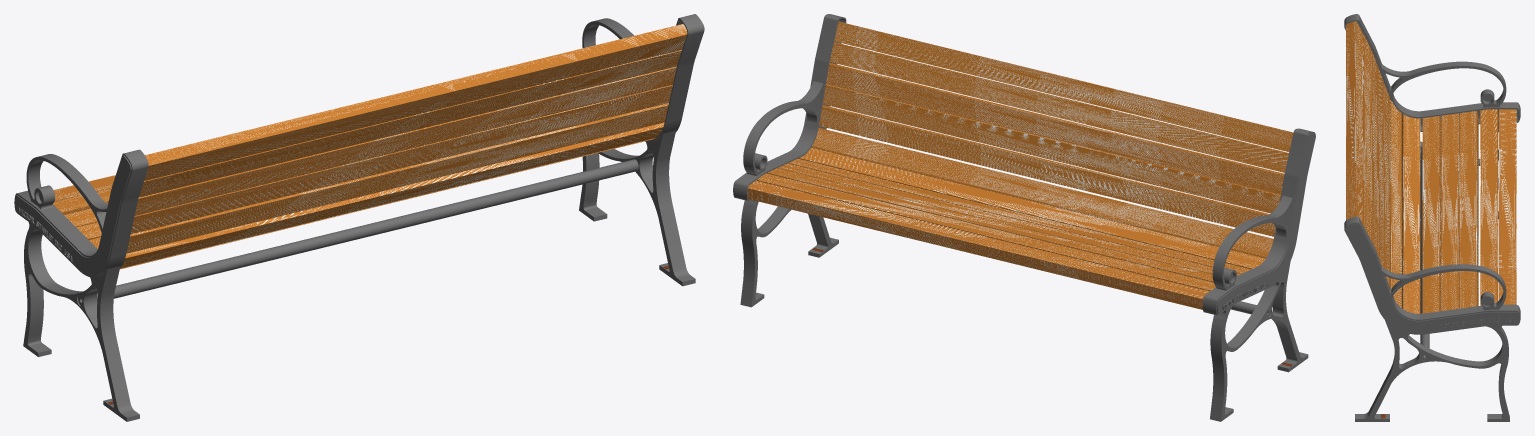
The picture shows the model from 3 angles, left to right: view 1: azimuth 30°, elevation 25°; view 2: azimuth 150°, elevation 25°; view 3: azimuth 270°, elevation 25°; orthographic projection. The views are drawn at different scales.
Parts seen in each view (by area): view 1: mesh9_mesh9-geometry, mesh6_mesh6-geometry, mesh4_mesh4-geometry, mesh5_mesh5-geometry, mesh10_mesh10-geometry, mesh8_mesh8-geometry, mesh63_mesh63-geometry, mesh32_mesh32-geometry, mesh34_mesh34-geometry, mesh13_mesh13-geometry, mesh33_mesh33-geometry, mesh15_mesh15-geometry (+2 smaller); view 2: mesh4_mesh4-geometry, mesh8_mesh8-geometry, mesh6_mesh6-geometry, mesh5_mesh5-geometry, mesh10_mesh10-geometry, mesh9_mesh9-geometry, mesh2_mesh2-geometry, mesh7_mesh7-geometry, mesh34_mesh34-geometry, mesh12_mesh12-geometry, mesh32_mesh32-geometry, mesh1_mesh1-geometry (+6 smaller); view 3: mesh15_mesh15-geometry, mesh1_mesh1-geometry, mesh11_mesh11-geometry, mesh7_mesh7-geometry, mesh3_mesh3-geometry, mesh12_mesh12-geometry, mesh2_mesh2-geometry, mesh9_mesh9-geometry, mesh13_mesh13-geometry, mesh8_mesh8-geometry, mesh34_mesh34-geometry, mesh10_mesh10-geometry (+6 smaller).
Part boxes in pixels (x1=…): mesh9_mesh9-geometry: x1=144, y1=24, x2=687, y2=180; mesh6_mesh6-geometry: x1=126, y1=103, x2=668, y2=253; mesh4_mesh4-geometry: x1=134, y1=66, x2=676, y2=215; mesh5_mesh5-geometry: x1=131, y1=85, x2=672, y2=233; mesh10_mesh10-geometry: x1=138, y1=50, x2=681, y2=197; mesh8_mesh8-geometry: x1=120, y1=122, x2=664, y2=268; mesh63_mesh63-geometry: x1=97, y1=159, x2=638, y2=300; mesh32_mesh32-geometry: x1=23, y1=222, x2=139, y2=421; mesh34_mesh34-geometry: x1=14, y1=149, x2=148, y2=277; mesh13_mesh13-geometry: x1=579, y1=130, x2=695, y2=286; mesh33_mesh33-geometry: x1=26, y1=154, x2=107, y2=232; mesh15_mesh15-geometry: x1=645, y1=14, x2=704, y2=141; mesh4_mesh4-geometry: x1=826, y1=63, x2=1284, y2=194; mesh8_mesh8-geometry: x1=811, y1=128, x2=1273, y2=258; mesh6_mesh6-geometry: x1=819, y1=105, x2=1275, y2=236; mesh5_mesh5-geometry: x1=822, y1=84, x2=1280, y2=213; mesh10_mesh10-geometry: x1=829, y1=42, x2=1288, y2=172; mesh9_mesh9-geometry: x1=834, y1=21, x2=1293, y2=151; mesh2_mesh2-geometry: x1=747, y1=180, x2=1209, y2=309; mesh7_mesh7-geometry: x1=798, y1=147, x2=1265, y2=269; mesh34_mesh34-geometry: x1=1202, y1=128, x2=1315, y2=315; mesh12_mesh12-geometry: x1=756, y1=173, x2=1215, y2=291; mesh32_mesh32-geometry: x1=1210, y1=261, x2=1308, y2=421; mesh1_mesh1-geometry: x1=766, y1=168, x2=1213, y2=282; mesh15_mesh15-geometry: x1=1344, y1=216, x2=1520, y2=334; mesh1_mesh1-geometry: x1=1459, y1=111, x2=1478, y2=308; mesh11_mesh11-geometry: x1=1422, y1=116, x2=1441, y2=313; mesh7_mesh7-geometry: x1=1401, y1=114, x2=1420, y2=313; mesh3_mesh3-geometry: x1=1441, y1=113, x2=1459, y2=310; mesh12_mesh12-geometry: x1=1480, y1=109, x2=1498, y2=305; mesh2_mesh2-geometry: x1=1499, y1=109, x2=1516, y2=304; mesh9_mesh9-geometry: x1=1346, y1=21, x2=1362, y2=224; mesh13_mesh13-geometry: x1=1355, y1=320, x2=1509, y2=421; mesh8_mesh8-geometry: x1=1390, y1=100, x2=1401, y2=307; mesh34_mesh34-geometry: x1=1344, y1=14, x2=1520, y2=131; mesh10_mesh10-geometry: x1=1363, y1=34, x2=1370, y2=239.
Size of the model in its own units: 0.8694 by 0.3862 by 0.3083.
